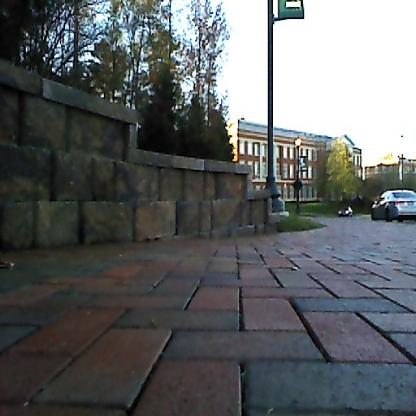Edge: (0, 215, 303, 278)
Sidewalk: (0, 220, 416, 416)
